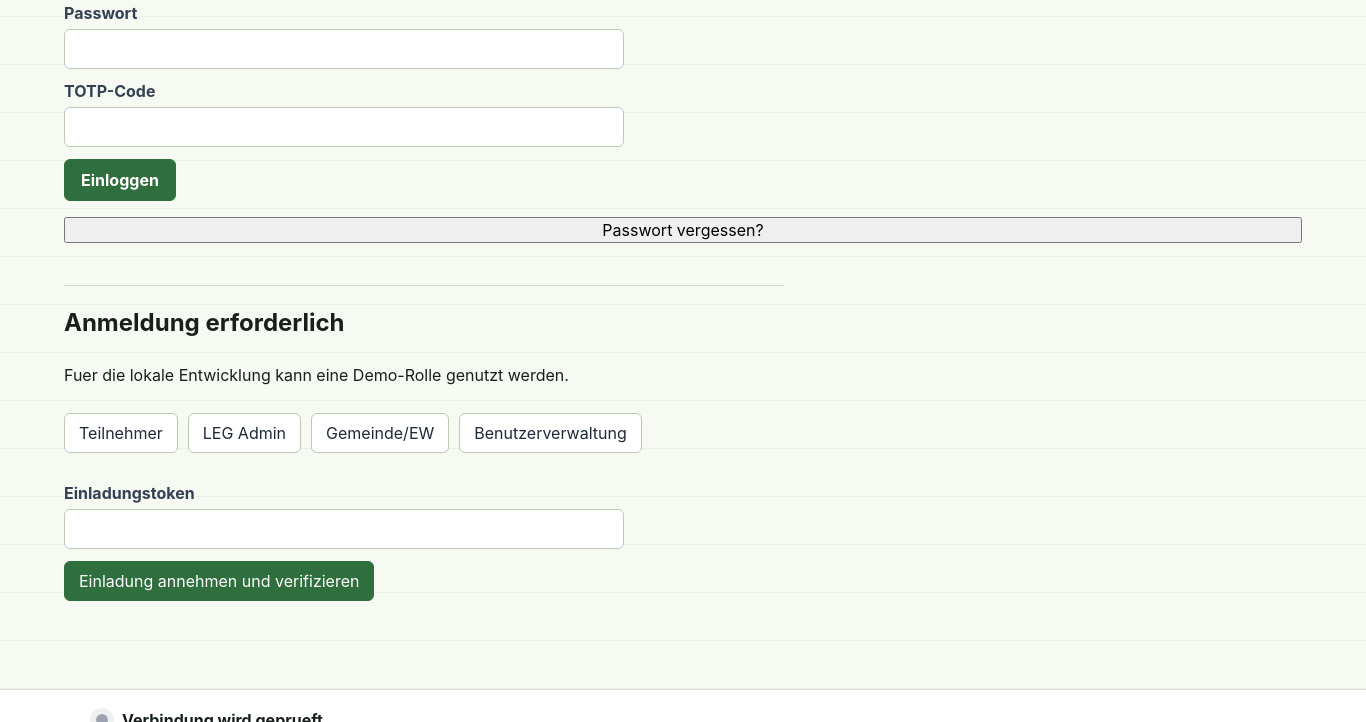
Test: Portal shell › warnt LEG Admins vor Datenzugriff und erstellt Gemeinde/EW Zugang
(page scrolled)
Click the button "LEG Admin": [244, 433] box [188,413,301,453]
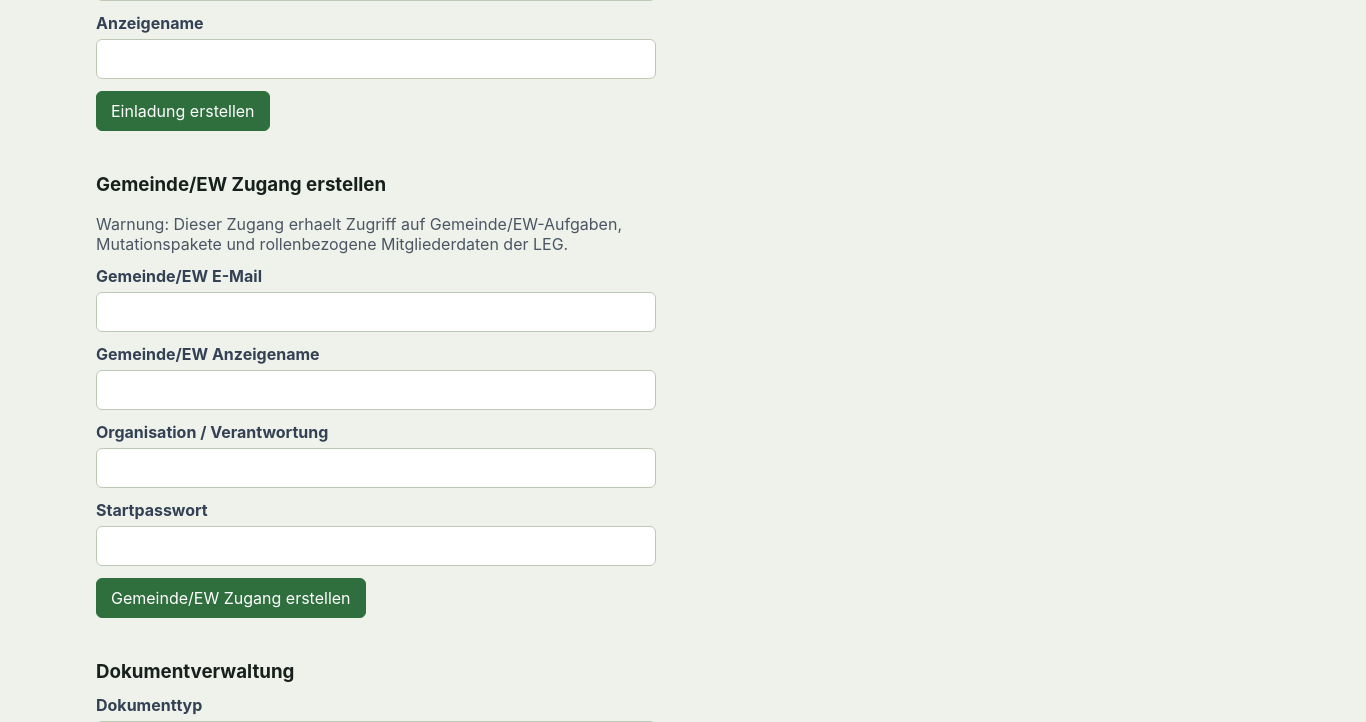
Result: the text "Warnung: Dieser Zugang erhaelt Zugriff auf Gemeinde/EW-Aufgaben, Mutationspakete und rollenbezogene Mitgliederdaten der " is shown at [96,214,622,254]
In the field labelled "Gemeinde/EW E-Mail": [376, 312] box [96,292,656,332], type "ew-admin@example.test"
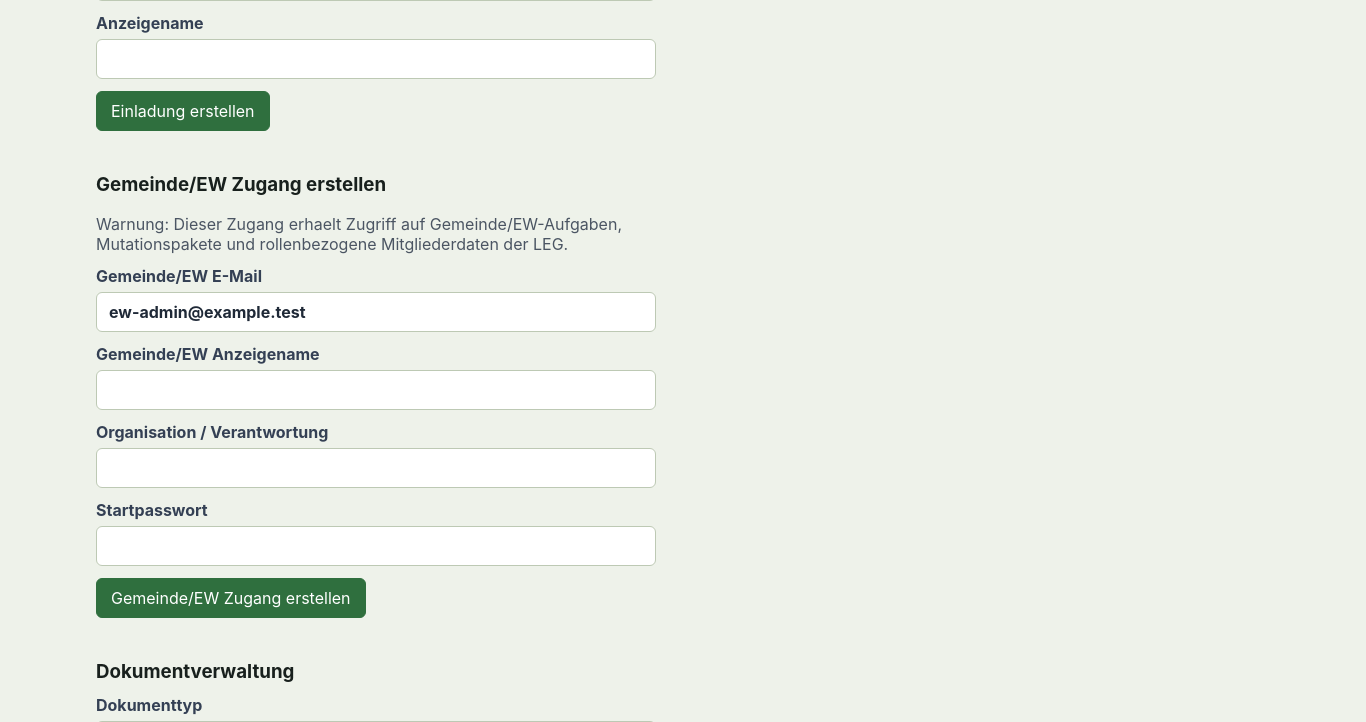
In the field labelled "Gemeinde/EW Anzeigename": [376, 390] box [96,370,656,410], type "EW Admin"
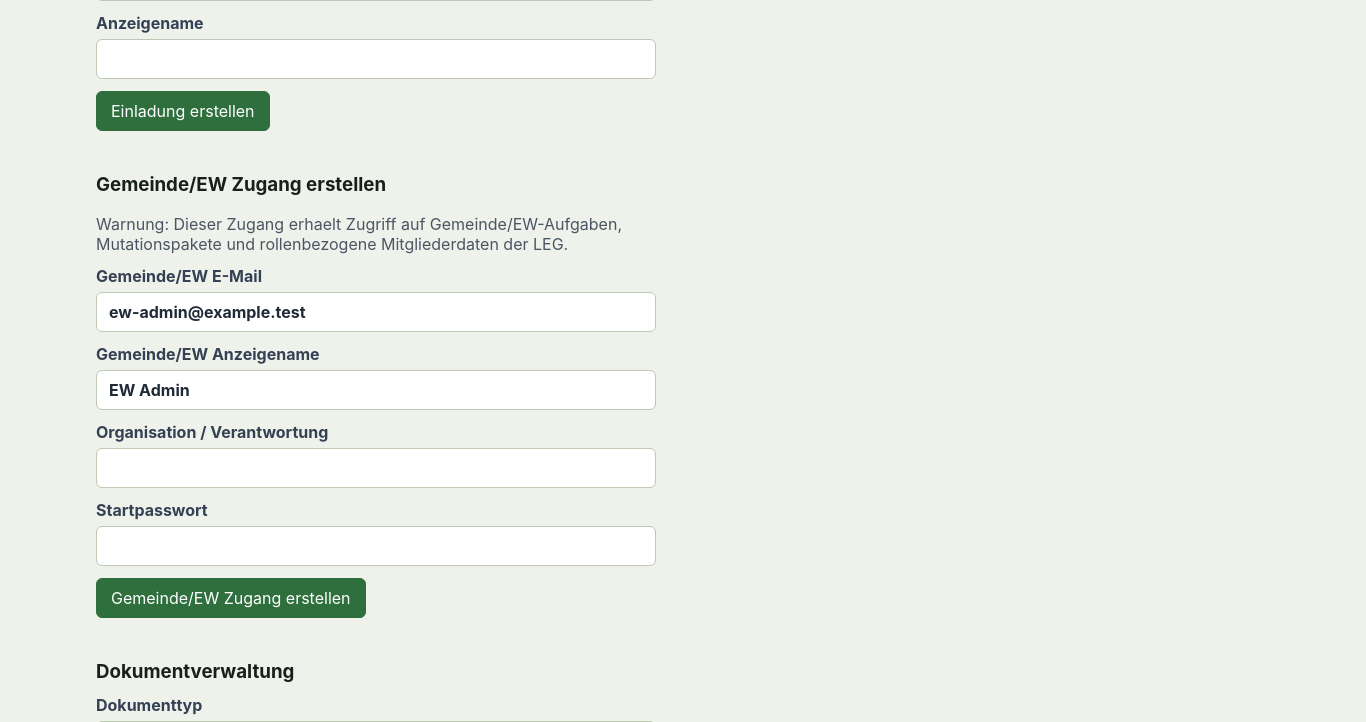
In the field labelled "Organisation / Verantwortung": [376, 468] box [96,448,656,488], type "Gemeinde/EW Basadingen"
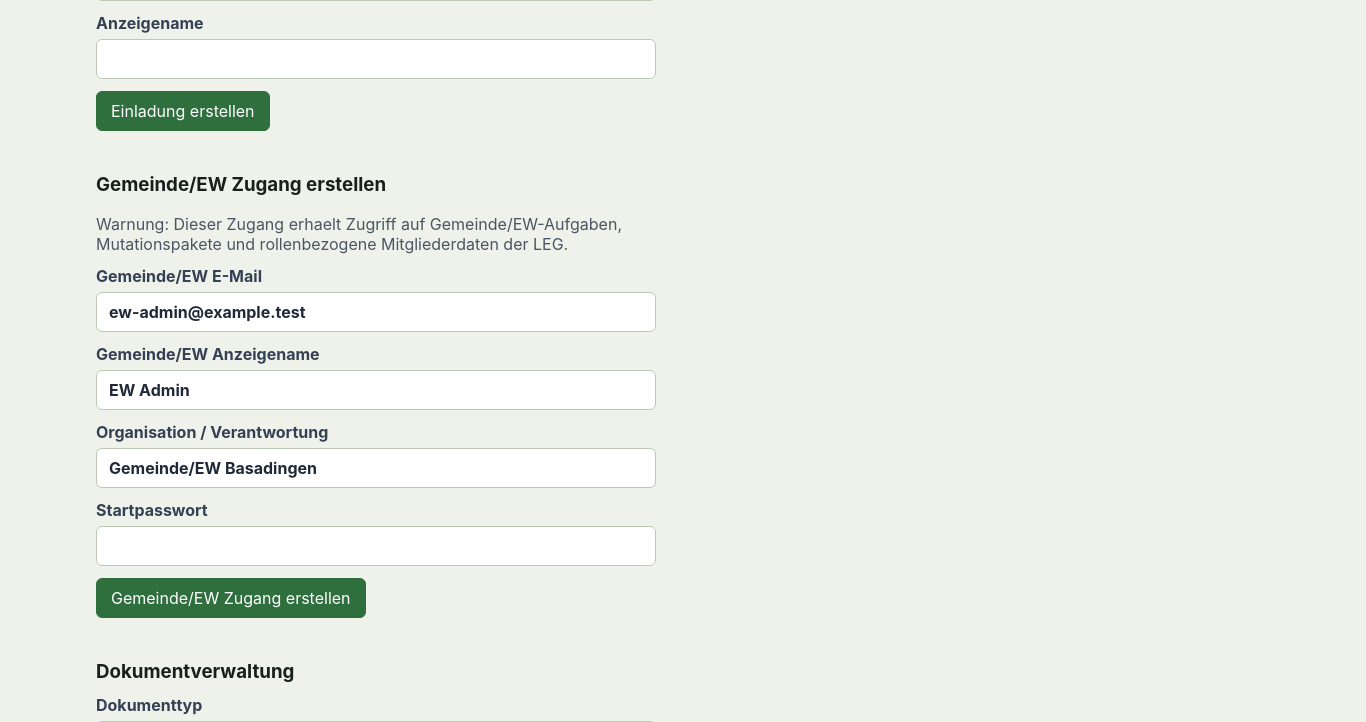
In the password field labelled "Startpasswort": [376, 546] box [96,526,656,566], type "Start123!"
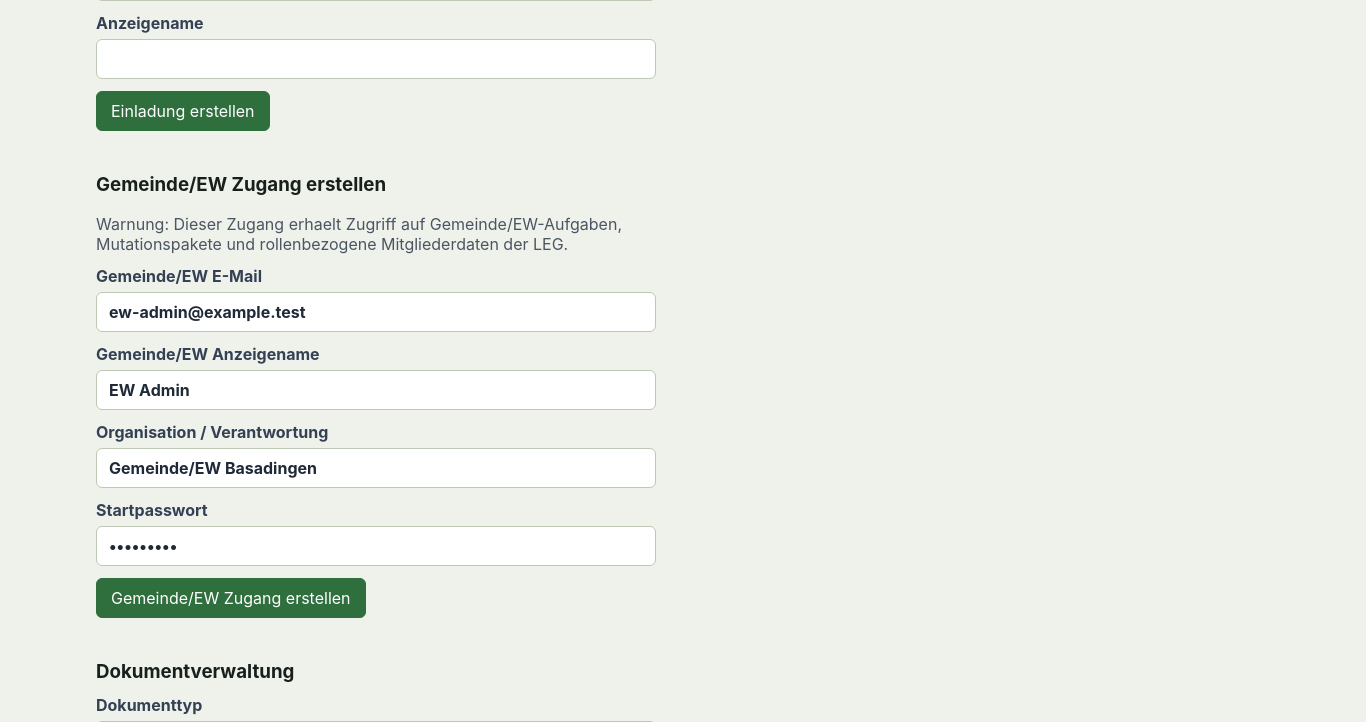
Click the button "Gemeinde/EW Zugang erstellen": [231, 598] box [96,578,366,618]
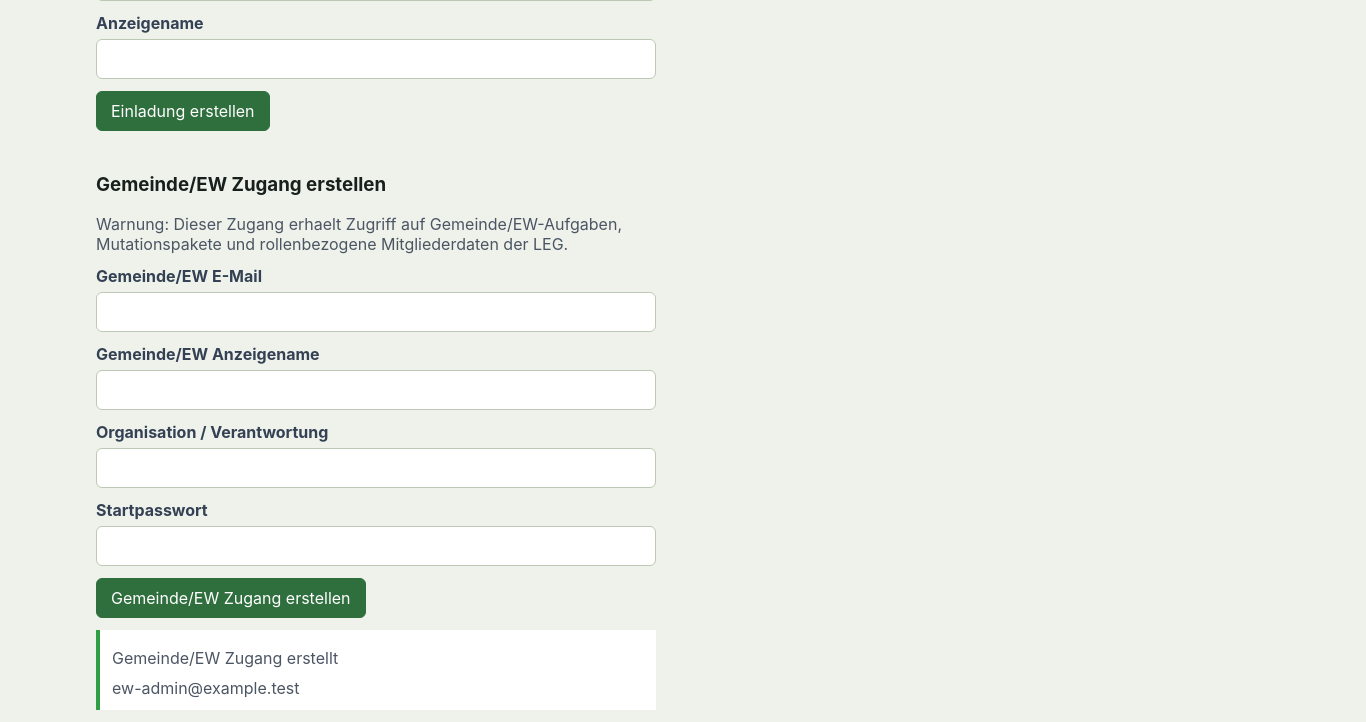
Result: the text "Gemeinde/EW Zugang erstellt" is shown at [112,648,338,668]
Result: the text "ew-admin@example.test" is shown at [112,678,300,698]
